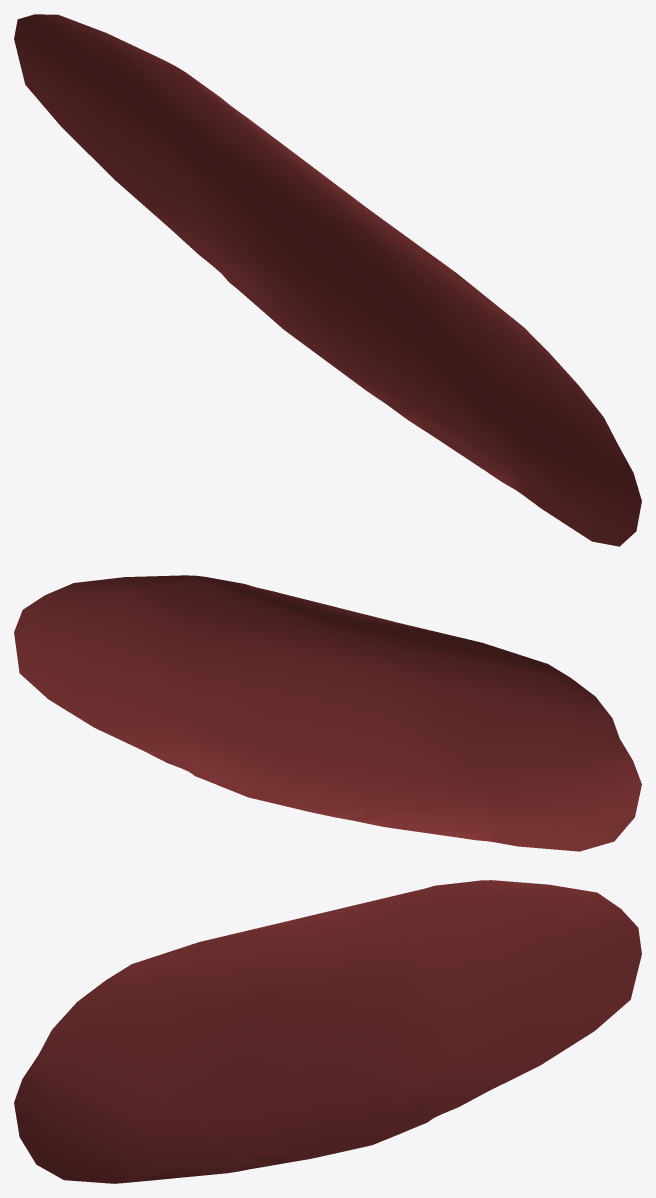
The model's file is pectoralis-minor-muscle-e1l.glb.
3 views of the same model, one above another, from view 1: azimuth 90°, elevation 25°; view 2: azimuth 150°, elevation 25°; view 3: azimuth 270°, elevation 25° (orthographic).
Parts seen in each view (by area): view 1: Pectoralis minor muscle.e1l; view 2: Pectoralis minor muscle.e1l; view 3: Pectoralis minor muscle.e1l.
Boxes of the visible parts, left/top/right/bottom form: Pectoralis minor muscle.e1l: left=14, top=14, right=641, bottom=546; Pectoralis minor muscle.e1l: left=14, top=575, right=641, bottom=851; Pectoralis minor muscle.e1l: left=14, top=880, right=641, bottom=1183.
Size of the model in its own units: 0.0231 by 0.028 by 0.0392.
